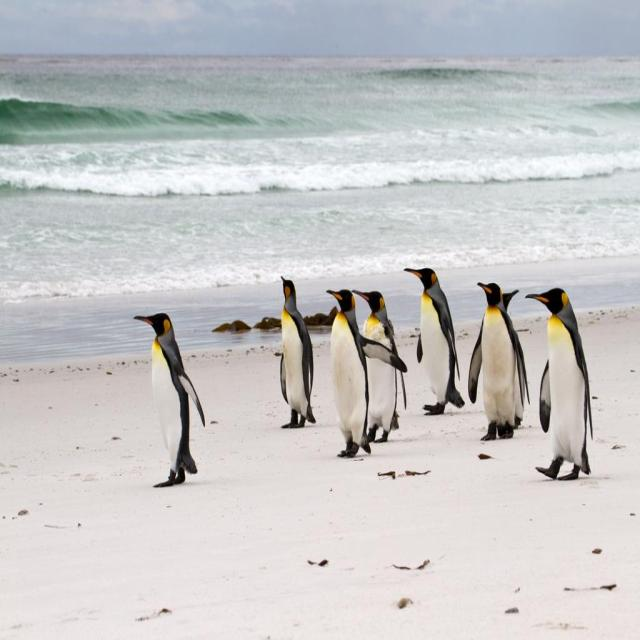Penguins: (131, 308, 203, 500), (529, 287, 594, 487), (398, 259, 458, 429), (469, 278, 527, 444), (352, 284, 401, 459), (322, 280, 366, 464), (271, 269, 312, 436)
